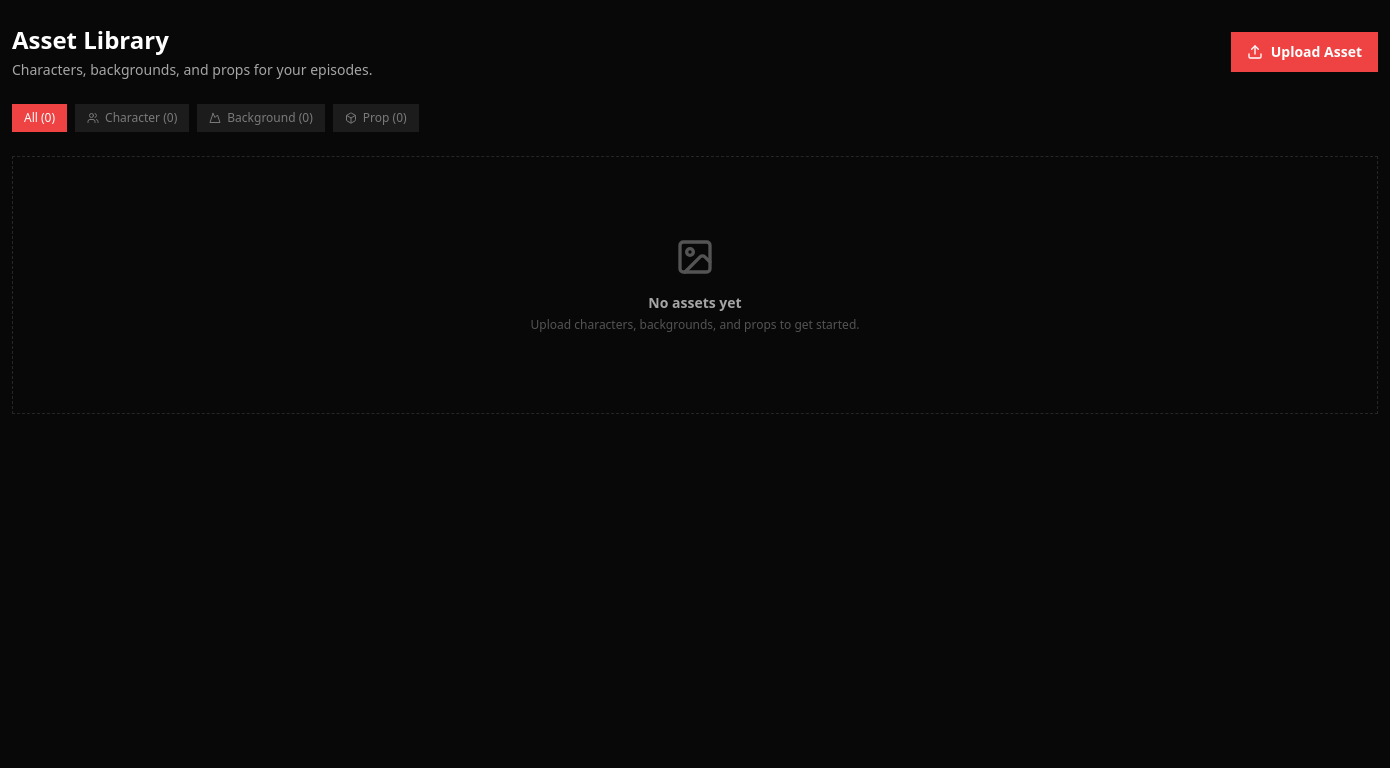
Test: AssetLibraryClient › opens upload panel when upload button is clicked
The image size is (1390, 768).
What coordinates should you click on to do the following:
click the button "Upload Asset"
I would click on:
 (1304, 52)
Its box is [1231, 32, 1378, 72].
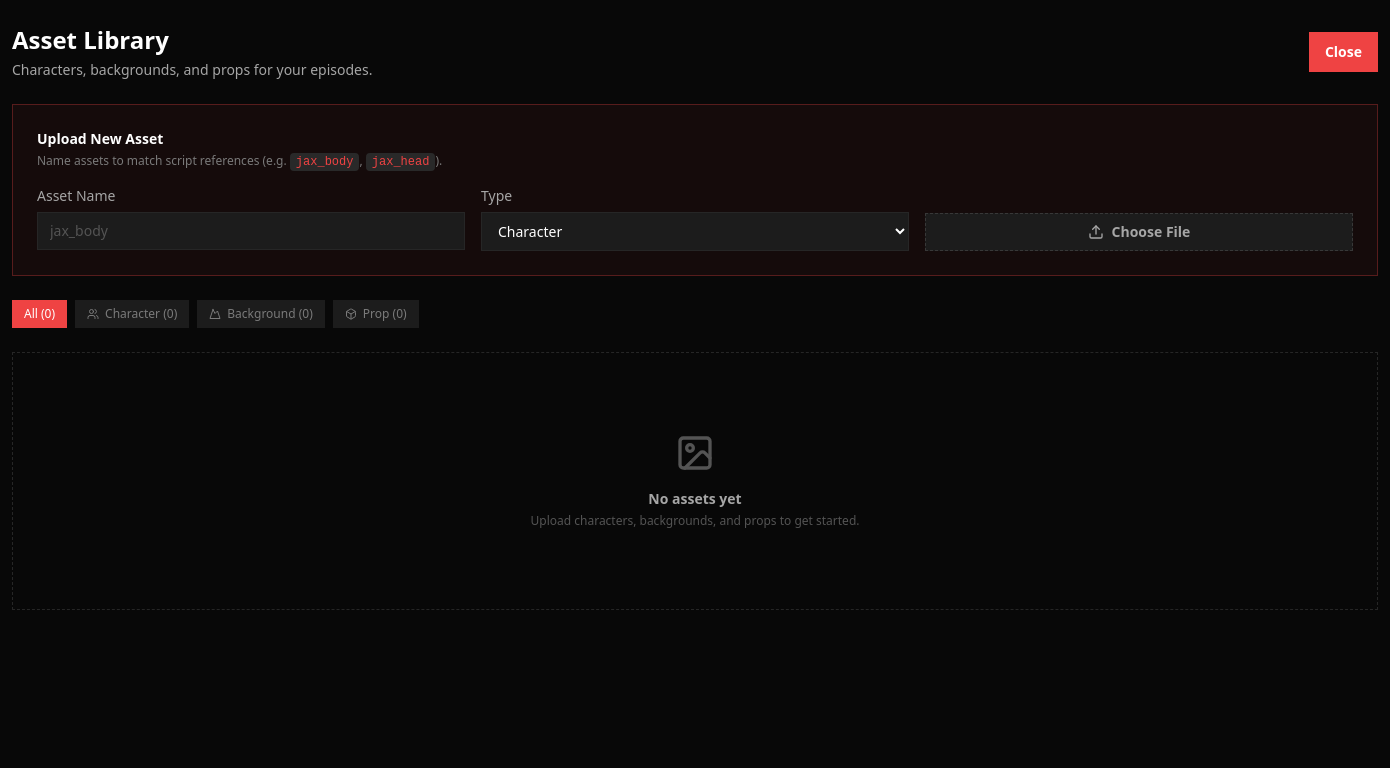
Now the heading "Upload New Asset" is shown, box [37, 129, 163, 148]
Now the field with placeholder "jax_body" is shown, box [37, 212, 465, 250]
